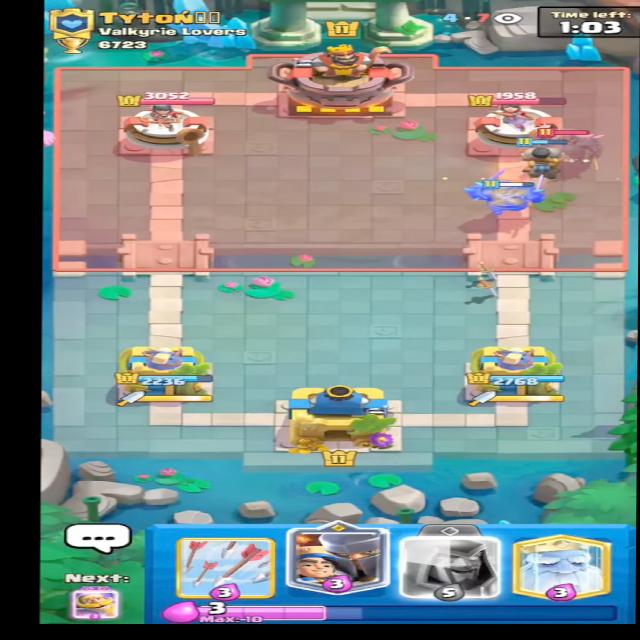pekka: (517, 117, 605, 169)
